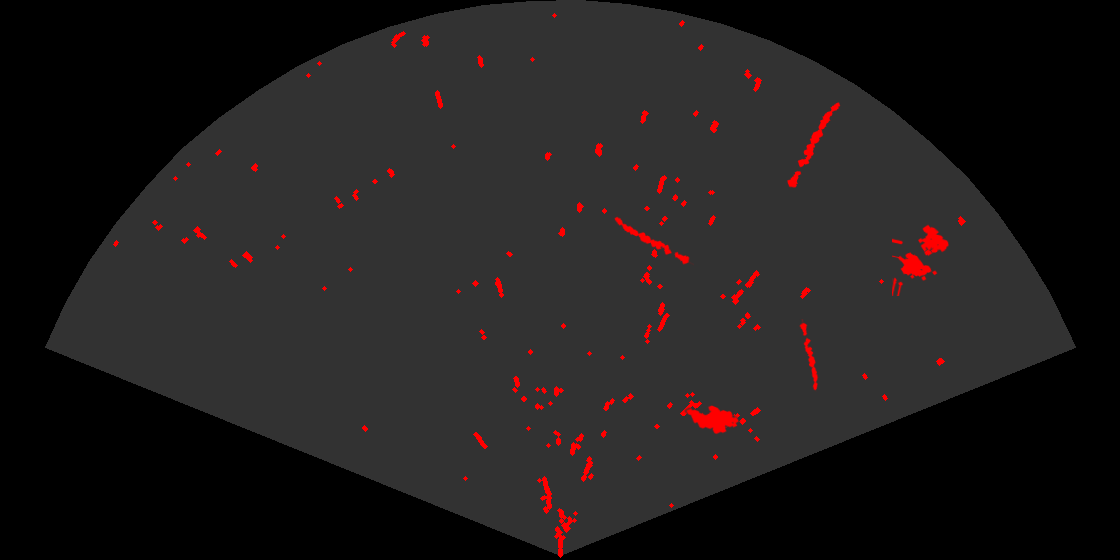AUV: (684, 404, 741, 436)
cage: (892, 223, 950, 296)
chain: (786, 101, 842, 190), (613, 215, 694, 267), (798, 319, 820, 392)
